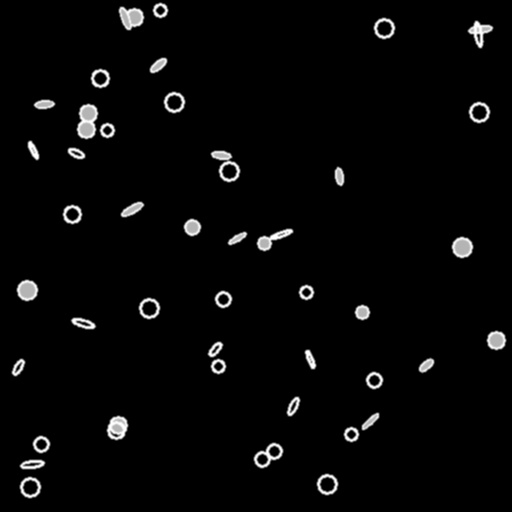pseudomonas: (121, 201, 143, 217), (118, 6, 132, 30), (361, 412, 379, 430), (149, 57, 167, 73), (286, 396, 300, 416), (72, 317, 94, 329), (270, 228, 292, 240), (473, 21, 483, 47), (207, 341, 223, 357), (418, 357, 434, 373), (228, 231, 246, 245), (11, 358, 25, 376), (27, 141, 39, 159), (304, 350, 316, 368), (67, 147, 85, 159), (211, 150, 231, 160), (21, 460, 43, 468), (469, 25, 491, 33), (335, 167, 343, 185), (35, 100, 53, 108)
synechocystis: (318, 475, 336, 493), (453, 238, 471, 256), (18, 281, 36, 299), (165, 93, 183, 111), (21, 478, 39, 496), (470, 103, 488, 121), (375, 19, 393, 37), (140, 299, 158, 317), (220, 162, 238, 180), (126, 9, 142, 25), (110, 417, 126, 433), (108, 422, 124, 438), (92, 70, 108, 86), (488, 332, 504, 348), (78, 121, 94, 137), (80, 105, 96, 121), (64, 206, 80, 222), (185, 220, 199, 234), (255, 452, 269, 466), (367, 373, 381, 387), (34, 437, 48, 451), (267, 444, 281, 458), (216, 292, 230, 306), (300, 286, 312, 298), (356, 306, 368, 318), (345, 428, 357, 440), (258, 237, 270, 249), (212, 360, 224, 372), (101, 124, 113, 136), (154, 4, 166, 16)
